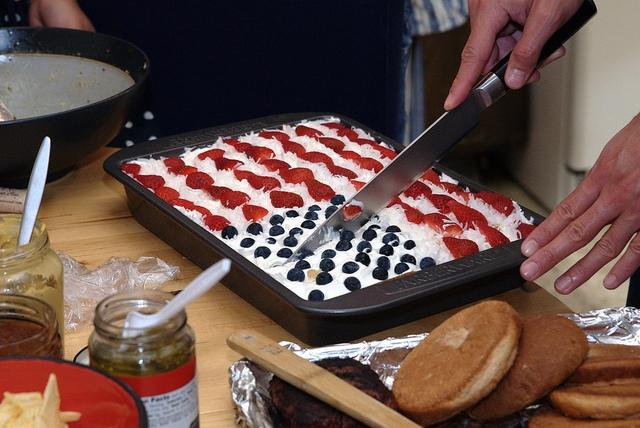strawberry: (447, 200, 488, 230), (422, 213, 463, 239), (477, 191, 515, 217), (474, 220, 510, 247), (442, 237, 480, 259), (304, 178, 336, 202), (248, 174, 282, 194), (424, 194, 456, 214), (132, 174, 166, 192), (220, 191, 252, 210), (269, 191, 304, 208), (244, 146, 276, 164), (278, 168, 314, 184), (404, 180, 432, 200), (353, 157, 384, 174), (186, 172, 215, 190), (242, 203, 268, 223), (298, 151, 335, 165), (294, 125, 324, 141), (318, 137, 346, 154), (200, 186, 233, 200), (281, 140, 306, 158), (260, 159, 292, 173), (514, 220, 537, 239), (204, 216, 231, 232), (214, 157, 244, 171), (155, 186, 180, 202), (432, 182, 464, 194), (373, 145, 398, 160), (198, 149, 225, 162), (167, 198, 195, 210), (342, 205, 362, 221), (258, 132, 290, 142), (167, 166, 198, 176), (455, 192, 477, 206), (120, 164, 141, 178), (420, 169, 440, 183), (234, 168, 254, 182), (404, 210, 424, 224), (336, 128, 358, 140), (336, 150, 362, 160), (337, 168, 358, 180), (349, 138, 376, 146), (348, 180, 366, 191), (234, 143, 254, 152), (320, 122, 344, 129)
